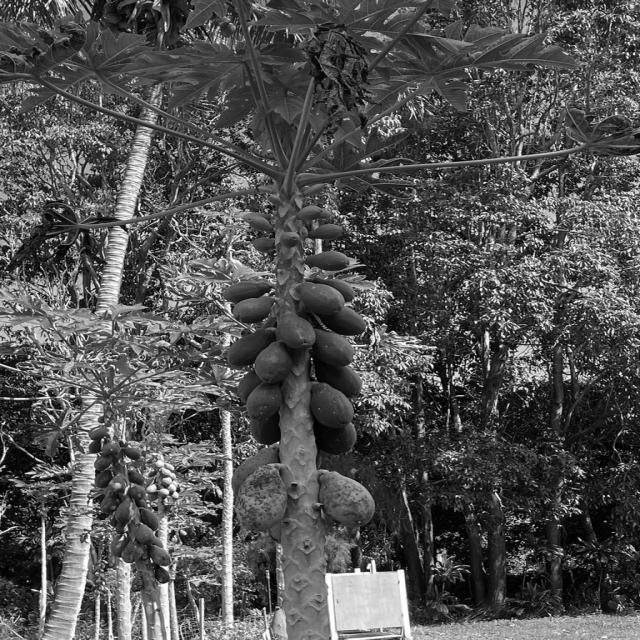Papaya-Tree: (142, 36, 468, 640)
